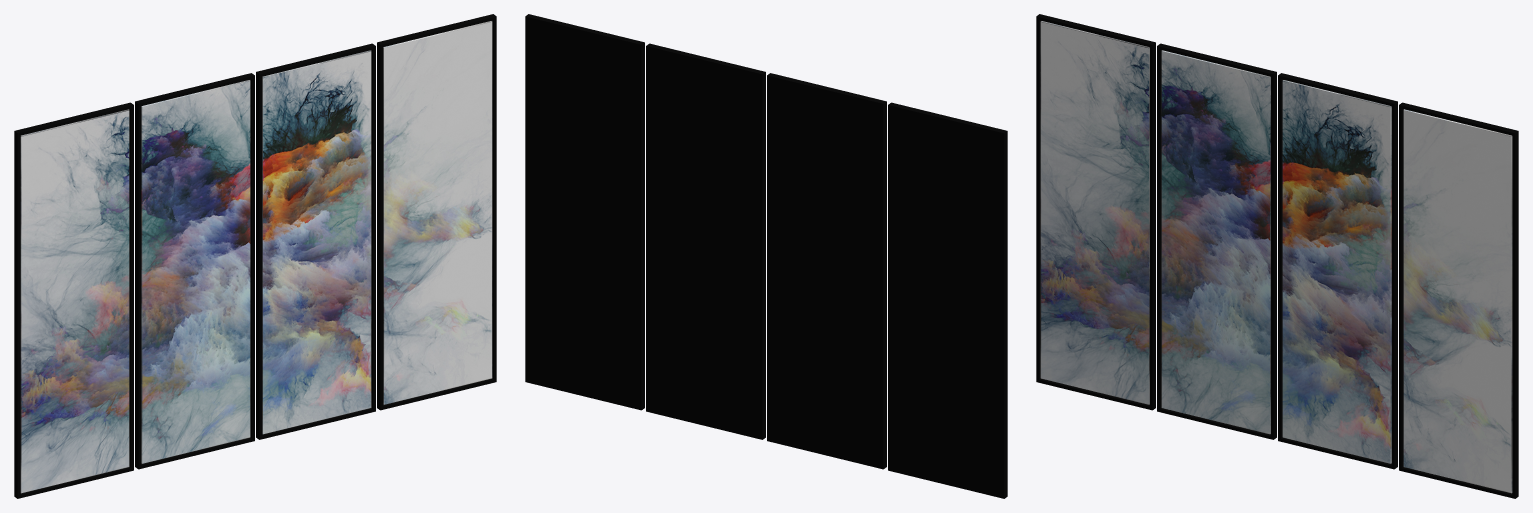
The model's file is Images.fbx.
3 renders of one model, left to right at view 1: azimuth 30°, elevation 25°; view 2: azimuth 150°, elevation 25°; view 3: azimuth 330°, elevation 25°, orthographic.
Parts seen in each view (by area): view 1: 11_obj(1001025), 17_obj(1001025), 14_obj(1001025), 9_obj(1001025), 8_obj(1001025), 16_obj(1001025), 13_obj(1001025), 19_obj(1001025); view 2: 8_obj(1001025), 13_obj(1001025), 16_obj(1001025), 19_obj(1001025); view 3: 9_obj(1001025), 14_obj(1001025), 11_obj(1001025), 17_obj(1001025), 13_obj(1001025), 19_obj(1001025), 8_obj(1001025), 16_obj(1001025).
Boxes of the visible parts, left/top/right/bottom form: 11_obj(1001025): left=141, top=80, right=250, bottom=463; 17_obj(1001025): left=383, top=21, right=492, bottom=404; 14_obj(1001025): left=262, top=50, right=371, bottom=434; 9_obj(1001025): left=20, top=109, right=129, bottom=493; 8_obj(1001025): left=14, top=102, right=133, bottom=498; 16_obj(1001025): left=256, top=43, right=375, bottom=439; 13_obj(1001025): left=135, top=73, right=254, bottom=469; 19_obj(1001025): left=377, top=14, right=496, bottom=410; 8_obj(1001025): left=888, top=102, right=1007, bottom=498; 13_obj(1001025): left=767, top=73, right=886, bottom=469; 16_obj(1001025): left=646, top=43, right=765, bottom=439; 19_obj(1001025): left=525, top=14, right=644, bottom=410; 9_obj(1001025): left=1040, top=21, right=1149, bottom=404; 14_obj(1001025): left=1282, top=80, right=1391, bottom=463; 11_obj(1001025): left=1161, top=50, right=1270, bottom=434; 17_obj(1001025): left=1403, top=109, right=1512, bottom=493; 13_obj(1001025): left=1157, top=43, right=1276, bottom=439; 19_obj(1001025): left=1399, top=102, right=1518, bottom=498; 8_obj(1001025): left=1036, top=14, right=1155, bottom=410; 16_obj(1001025): left=1278, top=73, right=1397, bottom=469.
Size of the model in its own units: 165 by 120 by 2.02.
